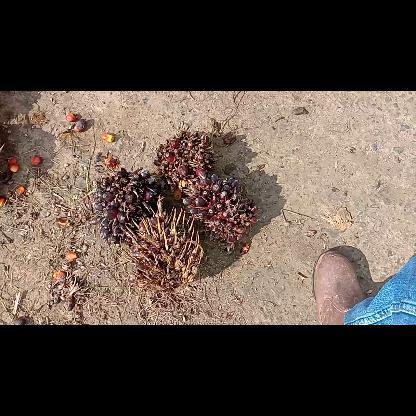TBS abnormal: (126, 194, 202, 286), (182, 174, 258, 246), (92, 168, 156, 244), (152, 130, 212, 192)
